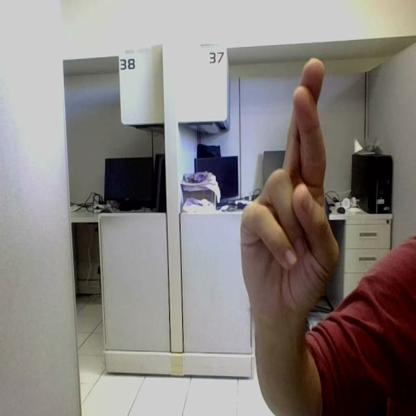R: (242, 58, 338, 302)
